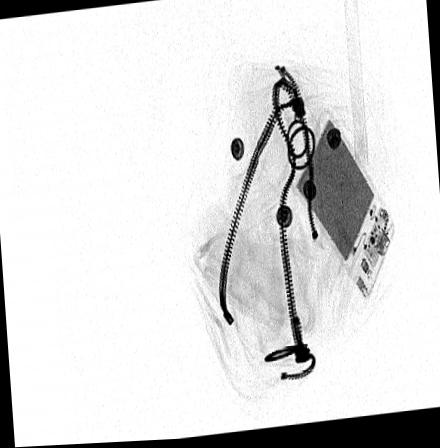Powerbank: (290, 116, 394, 304)
